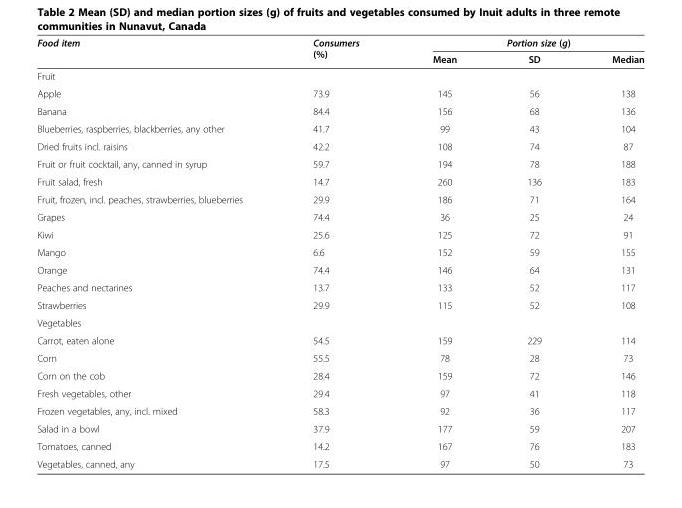table: (36, 36, 643, 469)
table column: (36, 36, 277, 469), (277, 36, 395, 469), (395, 36, 491, 469), (491, 36, 576, 469), (576, 36, 643, 469)
table column header: (36, 36, 643, 67)
table projected row header: (36, 313, 643, 331), (36, 67, 643, 84)
table row: (36, 84, 643, 102), (36, 119, 643, 137), (36, 154, 643, 172), (36, 172, 643, 190), (36, 207, 643, 225), (36, 225, 643, 243), (36, 260, 643, 278), (36, 278, 643, 296), (36, 313, 643, 331), (36, 348, 643, 366), (36, 366, 643, 384), (36, 401, 643, 419), (36, 419, 643, 437), (36, 50, 643, 67), (36, 67, 643, 84), (36, 102, 643, 119), (36, 137, 643, 154), (36, 190, 643, 207), (36, 243, 643, 260), (36, 296, 643, 313), (36, 331, 643, 348), (36, 384, 643, 401), (36, 437, 643, 454), (36, 454, 643, 469), (36, 36, 643, 50)
table spanning cell: (36, 36, 277, 67), (277, 36, 395, 67), (395, 36, 643, 50)
